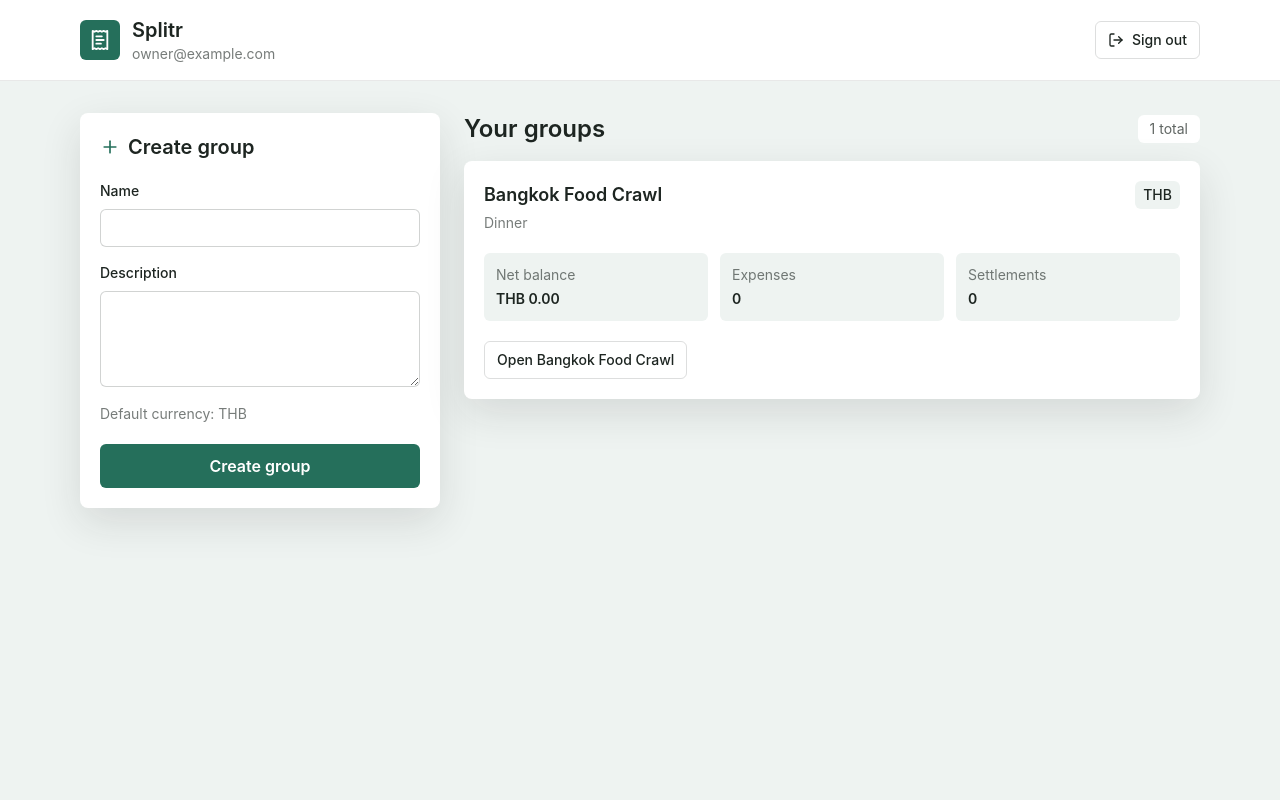
Test: App › shows Participant add errors
Click the button "Open Bangkok Food Crawl" at (586,360), box x1=484 y1=341 x2=687 y2=379
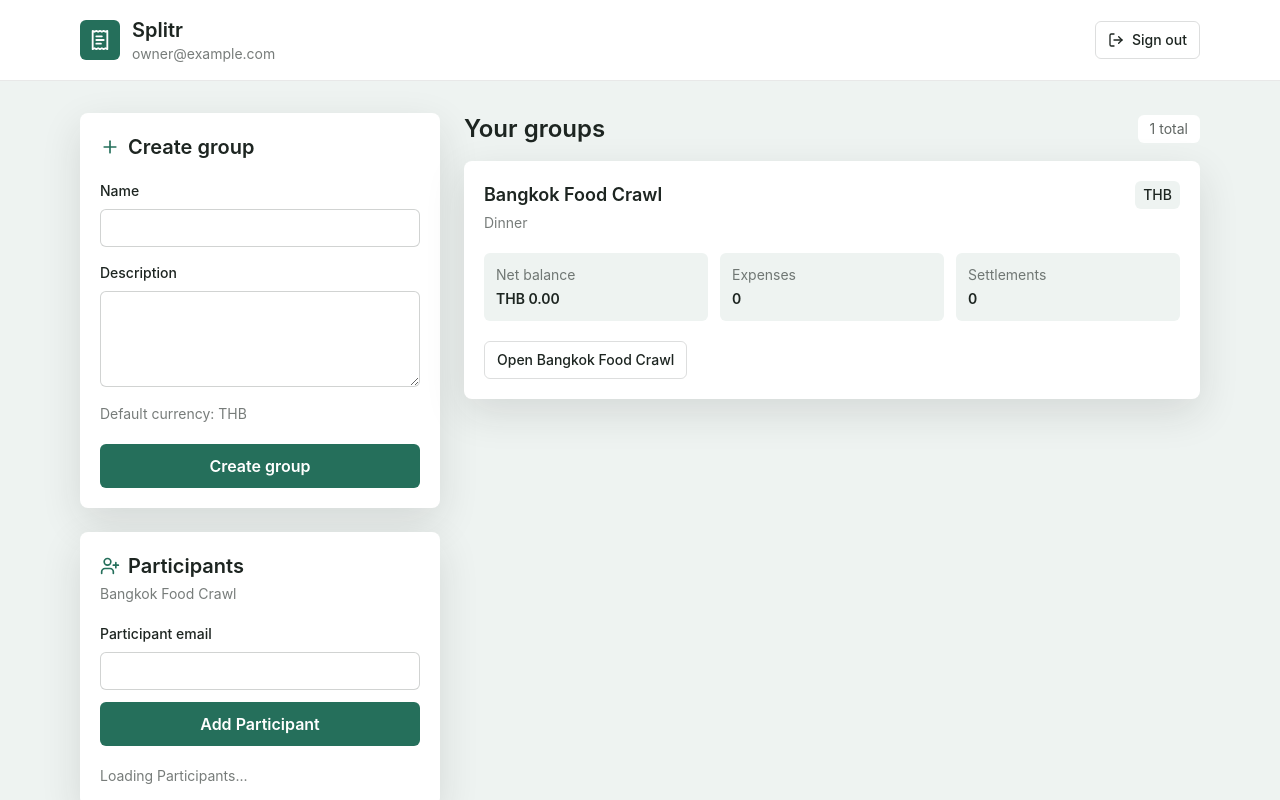
Type "missing@example.com" into the field labelled "Participant email" at (260,671), box x1=100 y1=652 x2=420 y2=690
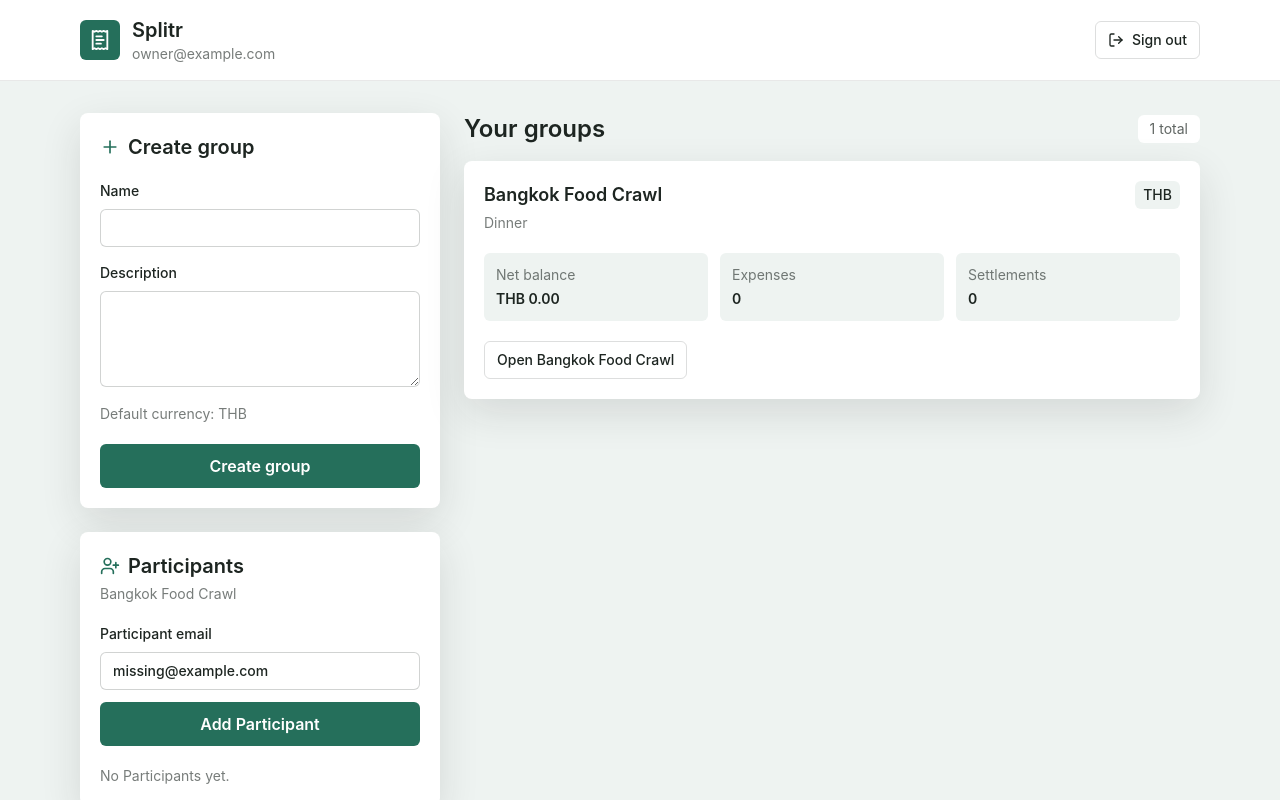
Click the button "Add Participant" at (260,724), box x1=100 y1=702 x2=420 y2=746
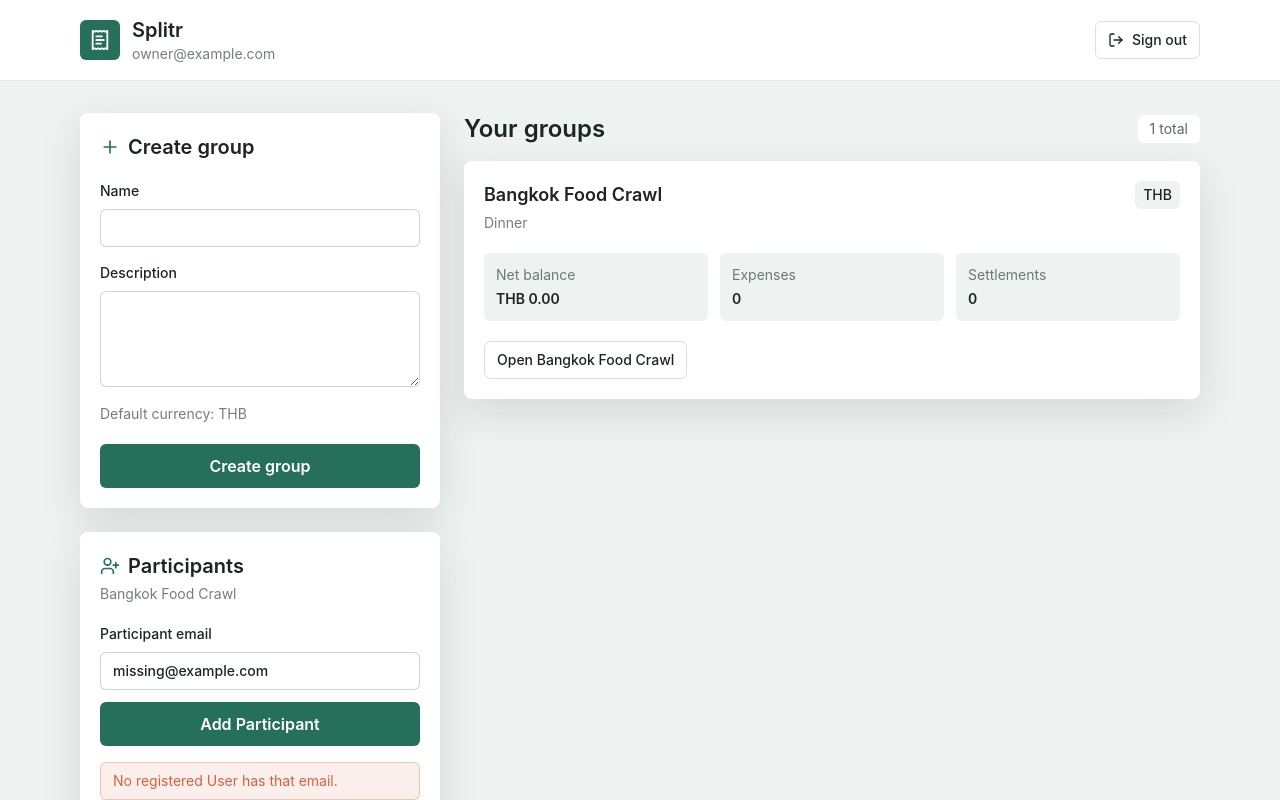
Check: the message reads "No registered User has that email.", box x1=113 y1=772 x2=338 y2=789
